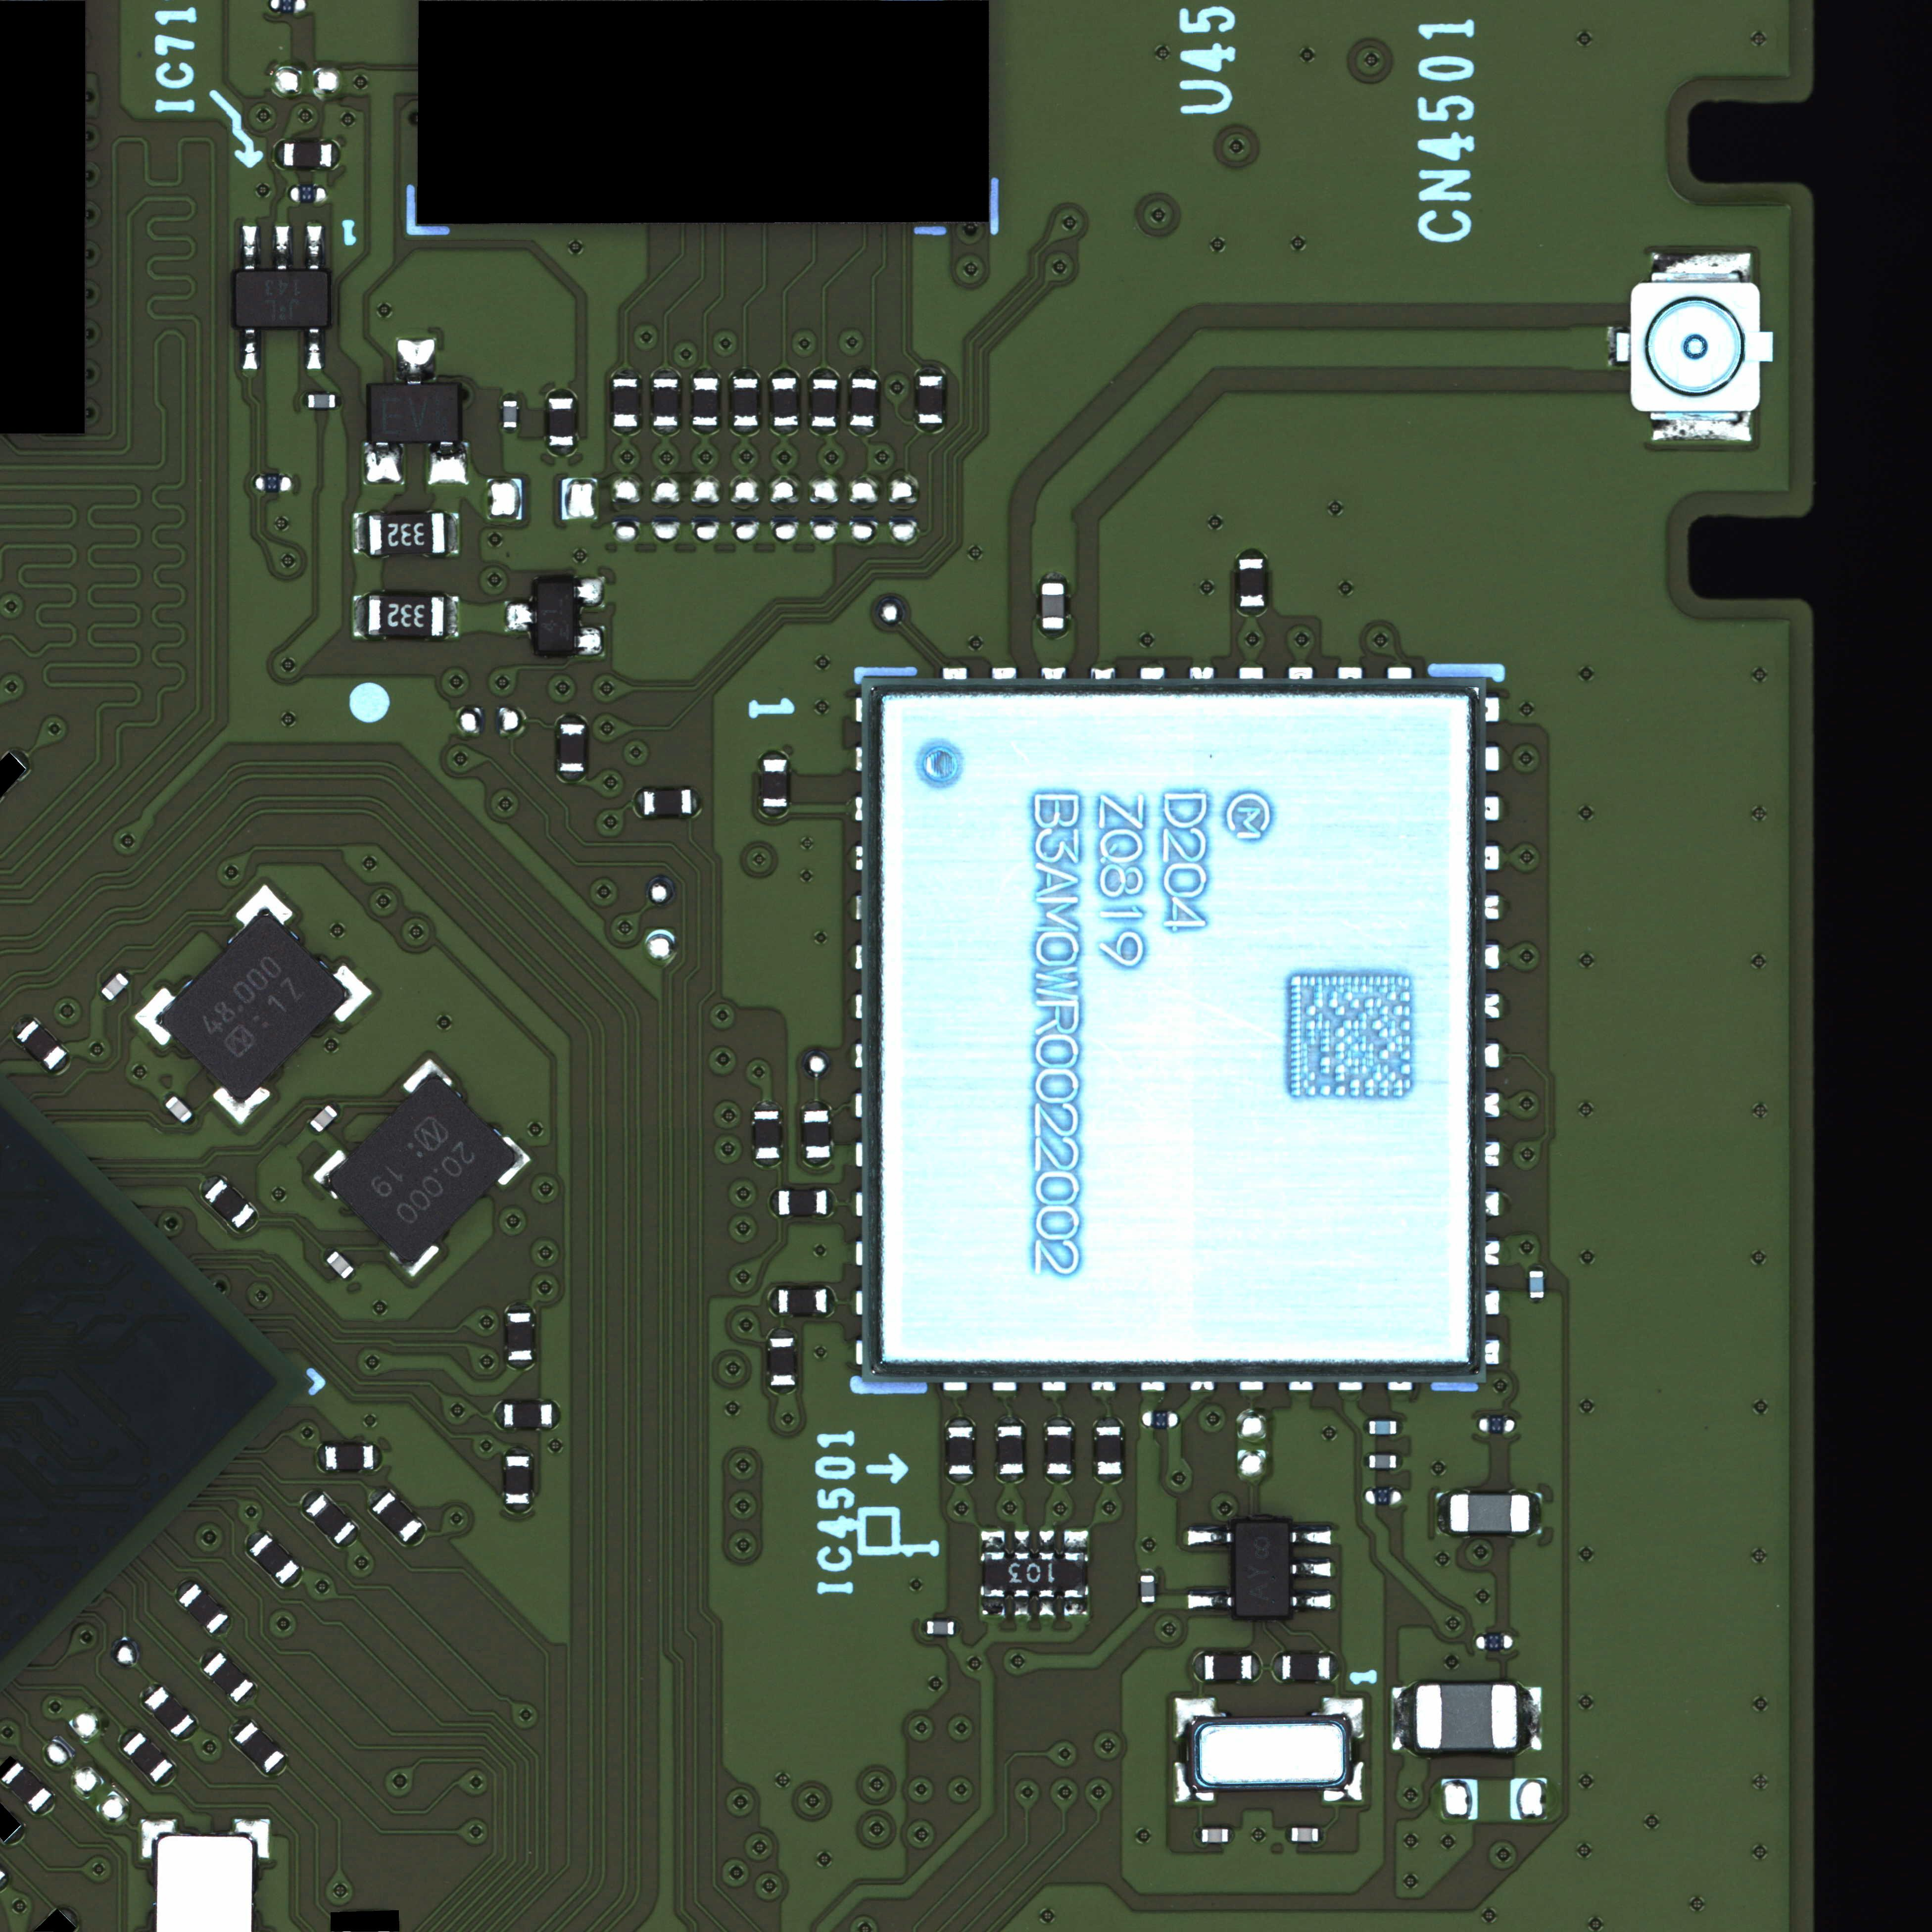Package: (322, 1070, 521, 1269), (153, 907, 352, 1105), (1190, 1715, 1353, 1790), (1416, 1684, 1518, 1750), (369, 384, 462, 441), (235, 272, 330, 327), (1235, 1521, 1289, 1616), (984, 1552, 1084, 1598), (1450, 1494, 1530, 1533), (368, 514, 445, 553), (536, 578, 575, 654), (368, 598, 444, 635), (247, 1533, 301, 1586), (177, 1582, 230, 1635), (233, 1721, 286, 1774), (304, 1493, 356, 1546), (371, 1492, 424, 1544), (201, 1651, 254, 1703), (143, 1686, 195, 1739), (16, 1019, 68, 1071), (203, 1178, 256, 1229), (121, 1732, 173, 1784), (2, 1763, 51, 1811), (771, 377, 799, 427), (803, 1110, 831, 1159), (849, 378, 877, 427), (769, 1338, 796, 1386), (643, 788, 692, 816), (811, 379, 838, 427), (1238, 558, 1265, 607), (1095, 1426, 1122, 1475), (761, 759, 788, 807), (652, 378, 679, 426), (997, 1425, 1023, 1475), (506, 1312, 533, 1361), (692, 377, 719, 426), (732, 378, 759, 426), (778, 1189, 826, 1215), (505, 1455, 531, 1504), (613, 378, 638, 427), (918, 375, 944, 423), (948, 1427, 974, 1475), (558, 724, 584, 772), (754, 1111, 780, 1159), (1282, 1654, 1330, 1680), (325, 1445, 374, 1470), (503, 1403, 552, 1429), (548, 398, 574, 446), (1047, 1426, 1072, 1475), (778, 1289, 827, 1313), (1204, 1655, 1252, 1680), (283, 143, 332, 167), (1042, 583, 1064, 629), (325, 1250, 355, 1280), (100, 972, 130, 1002), (309, 1104, 339, 1133), (164, 1095, 193, 1124), (1529, 1271, 1545, 1299), (1140, 1575, 1155, 1603), (926, 1620, 954, 1635), (307, 394, 336, 408), (1291, 1828, 1318, 1842), (1369, 1421, 1397, 1435), (1369, 1455, 1397, 1469), (1201, 1829, 1229, 1842), (503, 401, 517, 428)
Solder: (211, 1063, 274, 1126), (133, 986, 195, 1048), (311, 963, 373, 1024), (233, 883, 295, 944), (476, 1132, 532, 1188), (401, 1058, 455, 1111), (311, 1148, 364, 1201), (387, 1225, 441, 1278), (1174, 1696, 1217, 1739), (1322, 1696, 1365, 1739), (397, 338, 435, 383), (1173, 1761, 1214, 1802), (1323, 1761, 1364, 1802), (1391, 1687, 1416, 1751), (429, 442, 467, 484), (1518, 1687, 1543, 1751), (366, 442, 403, 483), (294, 1483, 324, 1512), (6, 1010, 36, 1039), (238, 1522, 267, 1551), (360, 1482, 390, 1510), (1187, 1593, 1234, 1610), (112, 1722, 141, 1750), (193, 1642, 221, 1670), (266, 1754, 294, 1783), (194, 1169, 222, 1197), (9, 743, 37, 771), (168, 1573, 196, 1601), (223, 1712, 252, 1739), (57, 1900, 85, 1929), (574, 579, 604, 605), (1187, 1530, 1234, 1546), (155, 1764, 183, 1791), (176, 1720, 204, 1747), (237, 1211, 265, 1238), (134, 1677, 163, 1703), (1289, 1561, 1333, 1578), (281, 1567, 308, 1594), (211, 1615, 238, 1643), (241, 225, 258, 270), (507, 603, 534, 630), (236, 1684, 262, 1711), (404, 1524, 431, 1551), (49, 1053, 76, 1080), (306, 225, 322, 271), (1435, 1490, 1450, 1536), (338, 1527, 364, 1553), (576, 628, 603, 653), (1289, 1594, 1333, 1609), (275, 225, 290, 270), (307, 328, 322, 371), (4, 1824, 30, 1849), (1289, 1530, 1333, 1545), (242, 328, 258, 370), (353, 596, 368, 637), (34, 1794, 60, 1819), (353, 514, 368, 554), (444, 596, 459, 636), (1063, 1529, 1089, 1551), (445, 513, 458, 554), (980, 1531, 1005, 1551), (981, 1598, 1007, 1617), (1531, 1492, 1542, 1535), (1064, 1598, 1089, 1616), (1191, 1651, 1204, 1682), (1013, 1530, 1031, 1551), (1038, 1530, 1056, 1551), (505, 1300, 535, 1312), (1253, 1651, 1264, 1684), (545, 386, 577, 398), (767, 1286, 778, 1317), (272, 139, 283, 170), (692, 788, 704, 818), (630, 787, 642, 817), (328, 1097, 346, 1115), (1271, 1651, 1281, 1683), (1013, 1598, 1030, 1618), (1331, 1651, 1341, 1683), (547, 447, 577, 458), (1094, 1415, 1124, 1426), (651, 366, 680, 378), (303, 1122, 321, 1140), (730, 367, 760, 378), (751, 1100, 782, 1111), (760, 807, 789, 818), (810, 367, 839, 378), (1039, 1598, 1055, 1618), (612, 366, 639, 378), (1039, 630, 1069, 640), (319, 1243, 337, 1260), (119, 966, 137, 983), (768, 1327, 796, 1338), (1238, 547, 1266, 558), (1040, 571, 1066, 582), (848, 427, 877, 437), (492, 1401, 503, 1430), (651, 427, 680, 437), (769, 1387, 797, 1398), (692, 426, 720, 437), (611, 428, 641, 437), (802, 1159, 832, 1169), (946, 1475, 975, 1486), (731, 427, 760, 437), (753, 1159, 782, 1169), (1045, 1475, 1073, 1486), (916, 424, 944, 434), (504, 1504, 532, 1515), (95, 990, 111, 1008), (158, 1088, 176, 1105), (827, 1287, 836, 1319), (996, 1475, 1025, 1485), (770, 367, 799, 377), (1045, 1415, 1073, 1426), (1094, 1475, 1122, 1485), (946, 1416, 975, 1426), (851, 368, 879, 378), (915, 365, 945, 375), (553, 1401, 562, 1431), (184, 1113, 200, 1130), (557, 772, 585, 781), (333, 140, 341, 171), (692, 366, 719, 377), (1237, 608, 1266, 617), (557, 716, 586, 725), (770, 427, 799, 436), (315, 1443, 324, 1472), (344, 1269, 360, 1286), (761, 751, 789, 760), (997, 1416, 1025, 1425), (827, 1189, 836, 1217), (506, 1361, 534, 1370), (801, 1100, 831, 1109), (810, 428, 838, 437), (505, 1446, 532, 1455), (374, 1445, 384, 1471), (769, 1189, 777, 1216), (1138, 1567, 1158, 1575), (1397, 1451, 1404, 1471), (1527, 1263, 1546, 1270), (502, 392, 520, 400), (1397, 1417, 1404, 1437), (1229, 1827, 1236, 1845), (1362, 1452, 1369, 1470), (1319, 1826, 1326, 1843), (1362, 1417, 1369, 1436), (954, 1620, 961, 1637), (1284, 1826, 1291, 1843), (1528, 1299, 1546, 1305), (1195, 1826, 1201, 1843), (920, 1619, 926, 1637), (1140, 1603, 1157, 1610), (501, 428, 518, 435), (336, 392, 342, 409), (302, 392, 307, 409)
